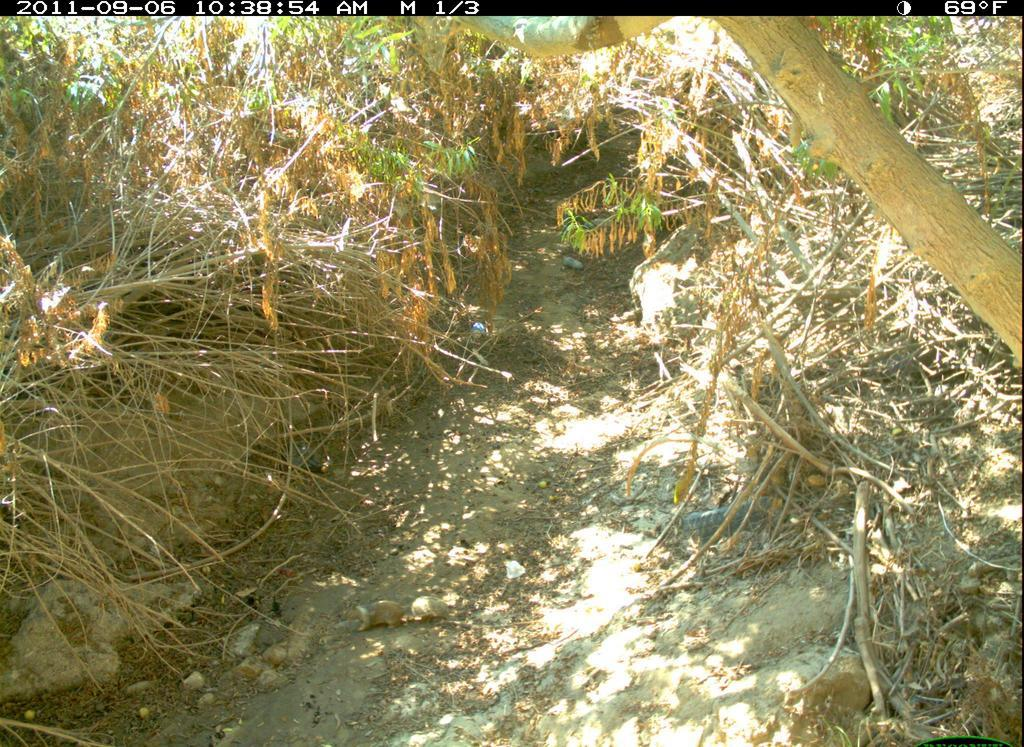squirrel: (338, 597, 461, 638)
